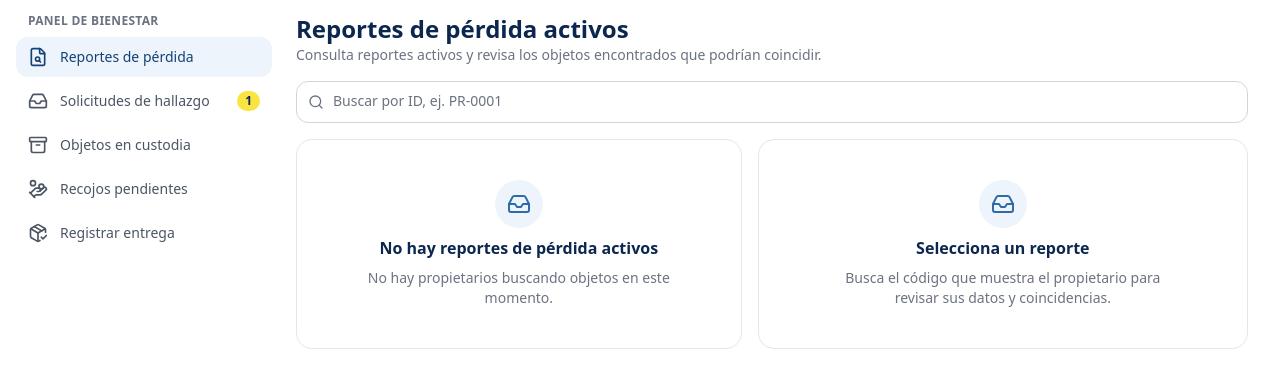
Panel de Bienestar › muestra un estado vacio cuando no hay recojos pendientes
Click the button "Recojos pendientes": (144, 189) [16,169,272,209]
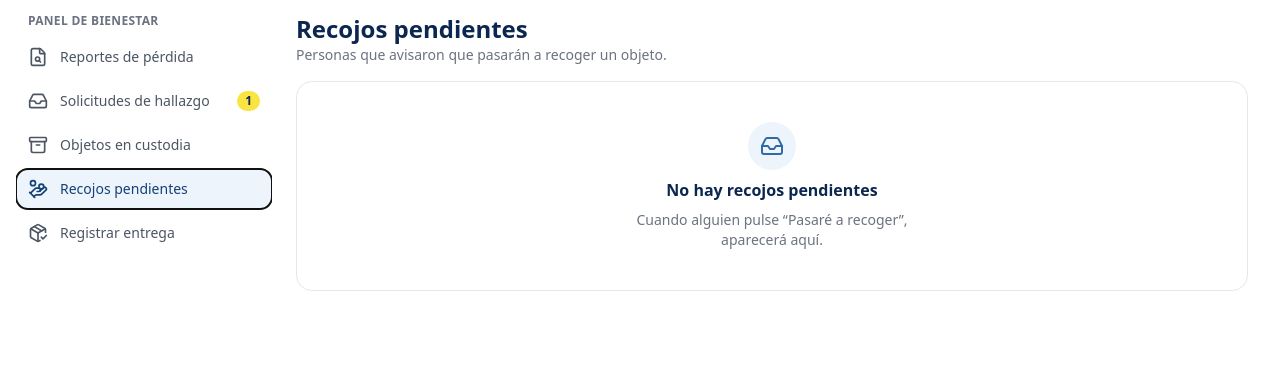
Check: the heading "No hay recojos pendientes" is shown, box [666,178,878,202]
